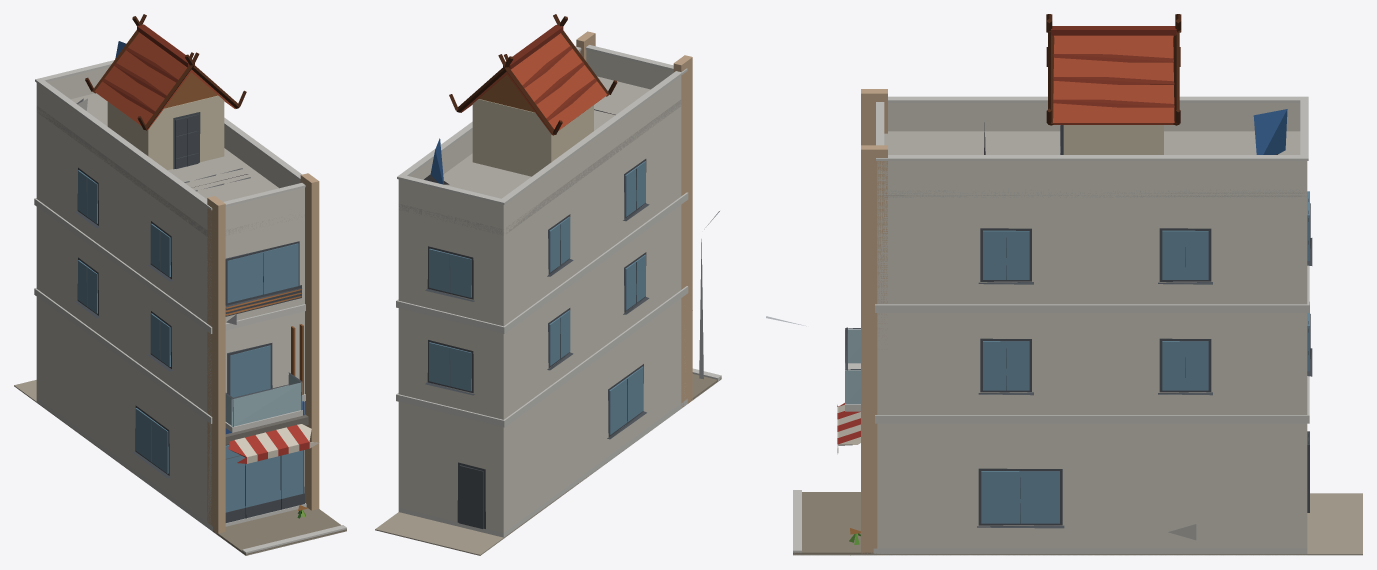
Rendered from bay1_one.glb.
3 renders of one model, left to right at view 1: azimuth 30°, elevation 25°; view 2: azimuth 150°, elevation 25°; view 3: azimuth 270°, elevation 25°, orthographic. The views are drawn at different scales.
Parts seen in each view (by area): view 1: body; view 2: body; view 3: body.
Boxes of the visible parts, left/top/right/bottom form: body: left=14, top=14, right=346, bottom=555; body: left=375, top=14, right=721, bottom=555; body: left=766, top=14, right=1362, bottom=555.
Size of the model in its own units: 4.71 by 15.93 by 16.88.
